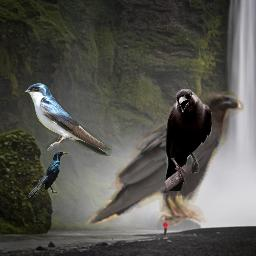Crow: (85, 91, 244, 231), (164, 89, 212, 191), (28, 151, 68, 198)
Swallow: (24, 83, 112, 156)
